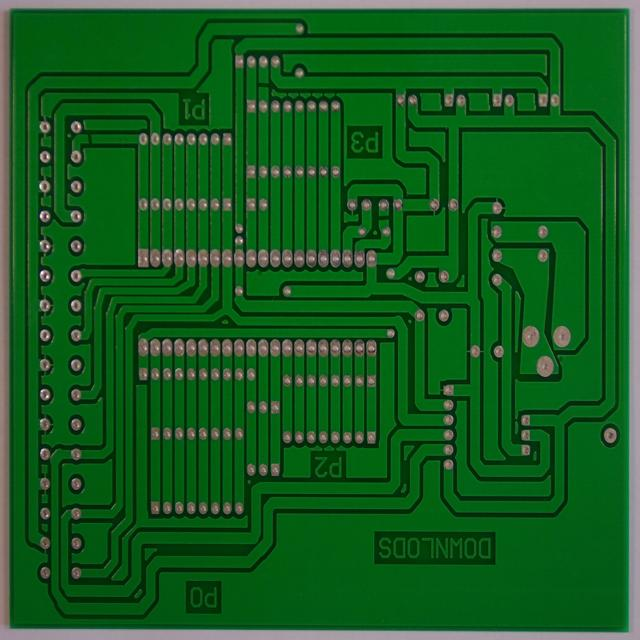open_circuit: (256, 78, 271, 92), (82, 131, 95, 146), (376, 211, 390, 223)
